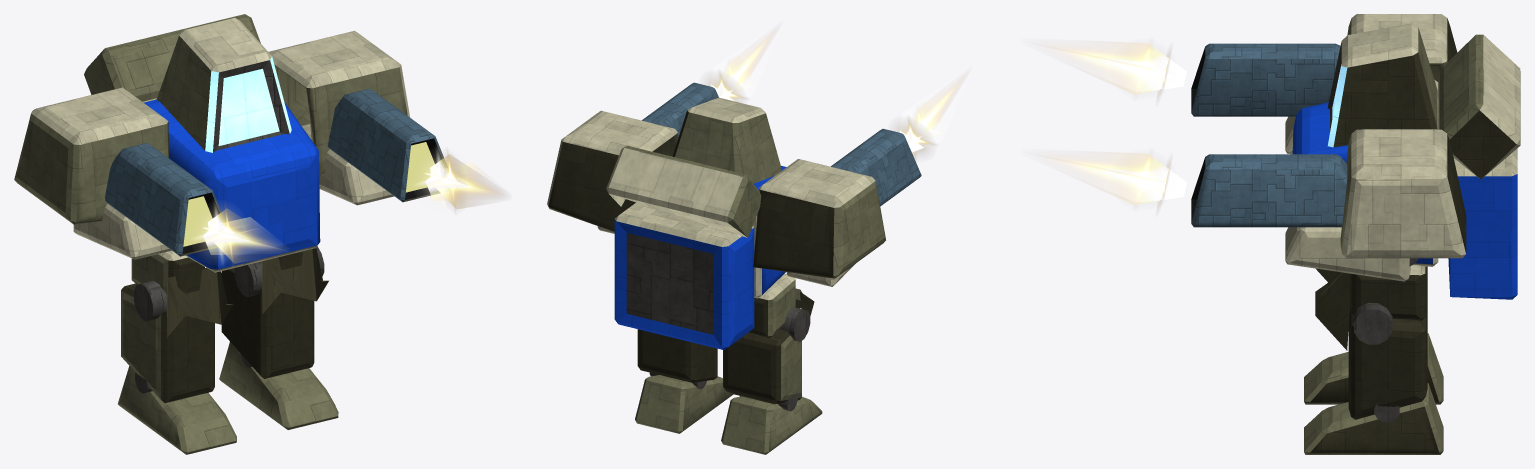
File: armpw-detailed.glb
3 views of the same model, side by side, from view 1: azimuth 30°, elevation 25°; view 2: azimuth 150°, elevation 25°; view 3: azimuth 270°, elevation 25° (orthographic). The views are drawn at different scales.
Visible parts, largest first — view 1: torso, ruparm, rloarm, rleg, lloarm, lleg, luparm, rfoot, lfoot, rfire, lfire, rthigh; view 2: torso, ruparm, luparm, rleg, rfoot, lfoot, rloarm, lleg, rfire, lfire, rthigh, lloarm; view 3: torso, luparm, lloarm, rloarm, lleg, lfoot, lfire, rfire, lthigh, ruparm, rfoot.
Part boxes in pixels (left/top/right/bottom): torso: left=84, top=14, right=320, bottom=272; ruparm: left=14, top=87, right=169, bottom=224; rloarm: left=73, top=143, right=224, bottom=259; rleg: left=121, top=267, right=233, bottom=403; lloarm: left=302, top=88, right=446, bottom=205; lleg: left=221, top=246, right=328, bottom=378; luparm: left=268, top=30, right=410, bottom=174; rfoot: left=118, top=366, right=236, bottom=454; lfoot: left=219, top=342, right=338, bottom=429; rfire: left=191, top=202, right=286, bottom=265; lfire: left=414, top=148, right=508, bottom=211; rthigh: left=131, top=251, right=204, bottom=294; torso: left=606, top=97, right=786, bottom=350; ruparm: left=753, top=159, right=885, bottom=278; luparm: left=547, top=110, right=678, bottom=231; rleg: left=723, top=288, right=814, bottom=404; rfoot: left=721, top=391, right=822, bottom=454; lfoot: left=635, top=372, right=733, bottom=433; rloarm: left=786, top=128, right=921, bottom=286; lleg: left=637, top=329, right=717, bottom=382; rfire: left=894, top=69, right=970, bottom=159; lfire: left=705, top=23, right=781, bottom=101; rthigh: left=748, top=273, right=795, bottom=338; lloarm: left=597, top=82, right=718, bottom=233; torso: left=1292, top=23, right=1520, bottom=299; luparm: left=1340, top=129, right=1466, bottom=258; lloarm: left=1191, top=154, right=1418, bottom=281; rloarm: left=1191, top=43, right=1340, bottom=154; lleg: left=1315, top=272, right=1427, bottom=419; lfoot: left=1304, top=383, right=1443, bottom=454; lfire: left=1026, top=150, right=1186, bottom=209; rfire: left=1027, top=39, right=1186, bottom=99; lthigh: left=1350, top=264, right=1427, bottom=320; ruparm: left=1347, top=14, right=1457, bottom=129; rfoot: left=1304, top=333, right=1443, bottom=404.
Bounding box in the file's own units: 26.47 × 27.37 × 33.42.
Materials: 10 (10 with a texture image).
